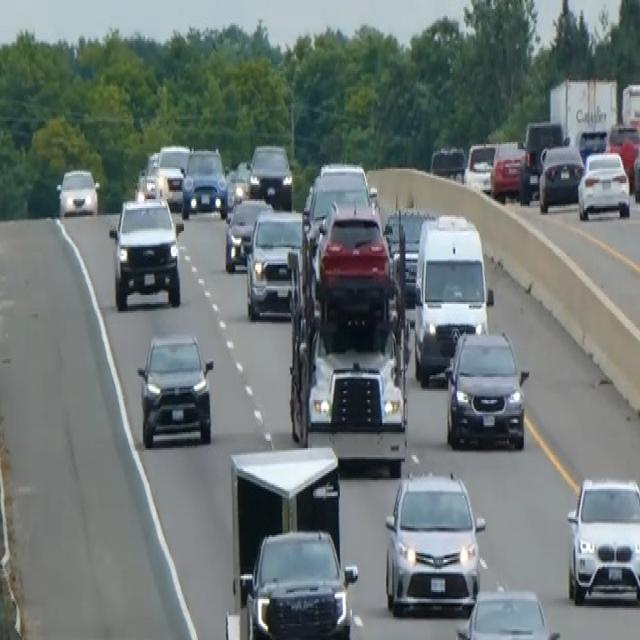car: (240, 524, 358, 638), (443, 327, 528, 452), (314, 198, 393, 326), (565, 473, 639, 606), (136, 329, 214, 448), (108, 194, 182, 309), (244, 206, 309, 320), (303, 162, 374, 247), (454, 585, 560, 638), (384, 202, 436, 300), (577, 147, 630, 220), (223, 196, 273, 272), (180, 146, 228, 218), (537, 140, 584, 212), (247, 140, 293, 208), (605, 119, 639, 187), (489, 137, 526, 199), (56, 165, 100, 217), (155, 142, 190, 206), (464, 140, 496, 194), (429, 144, 466, 181), (225, 156, 251, 208), (574, 125, 608, 164), (135, 149, 160, 199), (632, 135, 639, 203)
lorry: (286, 213, 410, 473)
minibus: (412, 210, 494, 384)
minivan: (382, 466, 486, 617), (518, 117, 564, 203)
